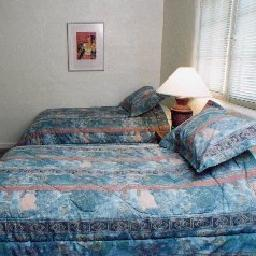Cama: (1, 114, 251, 254), (18, 91, 161, 141)
